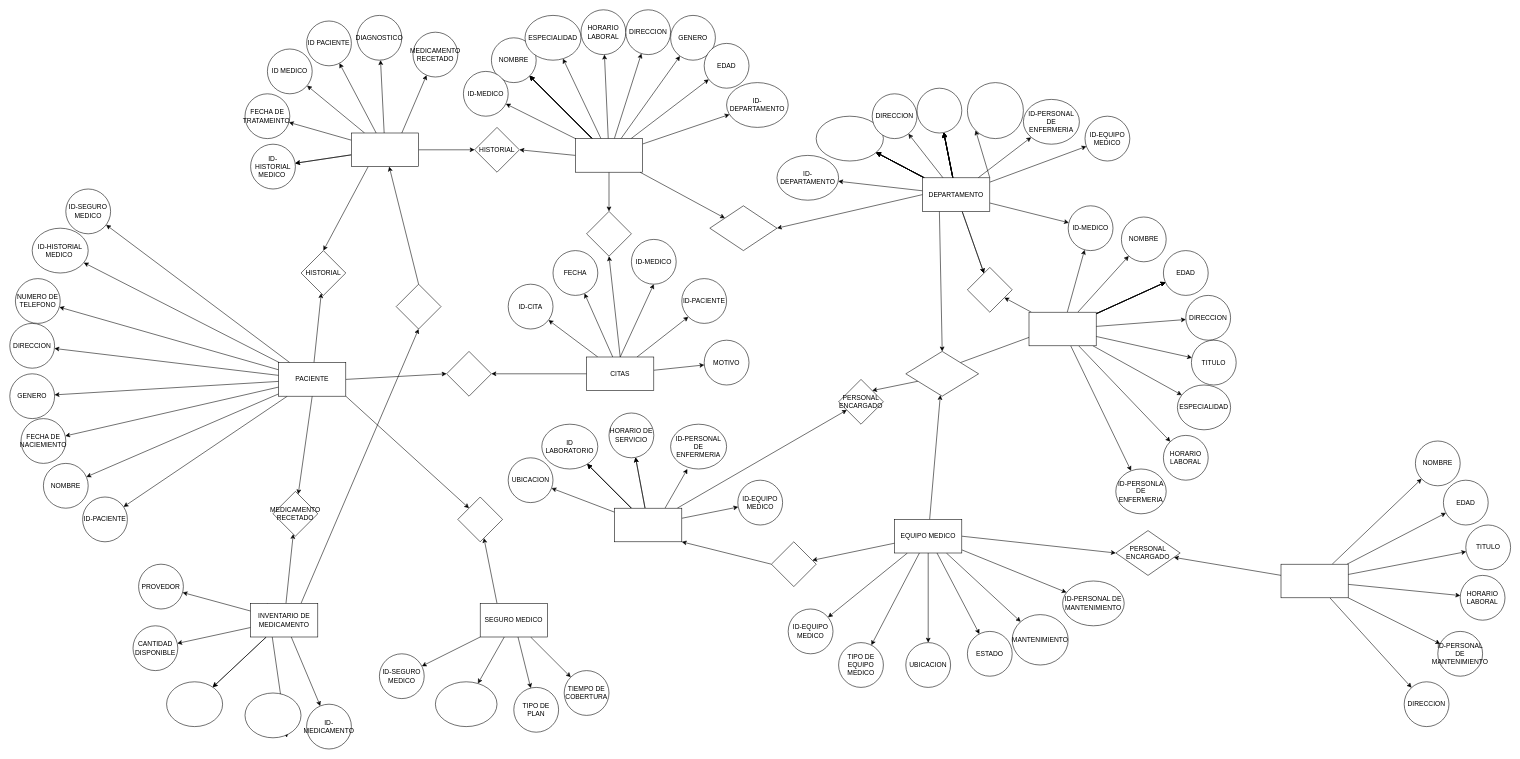
Some shapes in this 1520 by 759 pixel diagram are drawn without their labels. Each missing label, with the centre of its shape:
"AGENDA CITA" goes at point 468,373.
"CUENTA CON SEGURO?" goes at point 480,519.
"DESCRIPCION" goes at point 995,110.
"ENCARGADO" goes at point 939,110.
"ENCARGADO Y PERSONAL" goes at point 743,228.
"EQUIPO MEDICO UTILIDADO" goes at point 793,564.
"EQUIPO MEDICO UTILIZADO" goes at point 942,373.
"FECHA DE CADUCIDAD" goes at point 194,704.
"HISTORIAL DE MEDICO" goes at point 385,149.
"LABORATORIOS CLINICOS" goes at point 648,525.
"MEDICAMENTO USADOS" goes at point 418,306.
"MEDICO" goes at point 609,155.
"NOMBRE DE LA COMPAÑIA" goes at point 466,704.
"NOMBRE DEL MEDICAMENTO" goes at point 272,715.
"PERSONAL" goes at point 989,289.
"PERSONAL DE ENFERMERIA" goes at point 1062,329.
"PERSONAL DE MANTENIMIENTO" goes at point 1314,581.
"RESPONSABLE DE LA CITA" goes at point 608,233.
"TIPO DE DEPARTAMENTO" goes at point 849,138.
